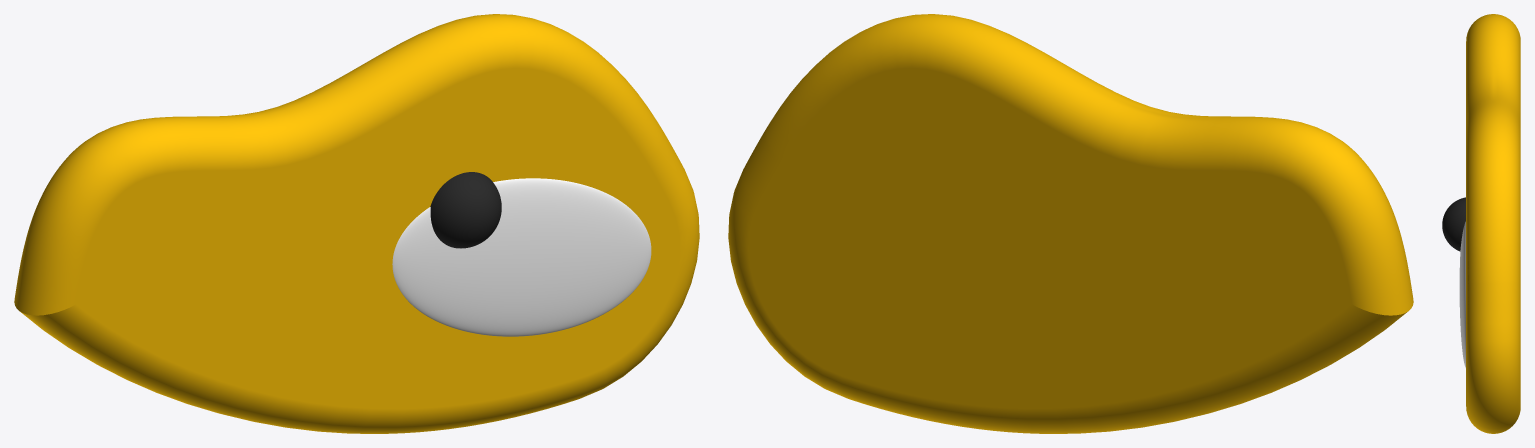
Rendered from management.glb.
The picture shows the model from 3 angles, left to right: view 1: azimuth 30°, elevation 25°; view 2: azimuth 150°, elevation 25°; view 3: azimuth 270°, elevation 25°; orthographic projection. The views are drawn at different scales.
Visible parts, largest first — view 1: Shape 0, Sphere, Pupille; view 2: Shape 0; view 3: Shape 0, Pupille, Sphere.
Boxes of the visible parts, bbox=[...] form: Shape 0: bbox=[14, 14, 699, 433]; Sphere: bbox=[392, 178, 651, 336]; Pupille: bbox=[430, 172, 501, 248]; Shape 0: bbox=[728, 14, 1413, 433]; Shape 0: bbox=[1466, 14, 1520, 433]; Pupille: bbox=[1442, 197, 1465, 251]; Sphere: bbox=[1459, 221, 1465, 367].
Size of the model in its own units: 5.89 by 3.35 by 0.8632.
